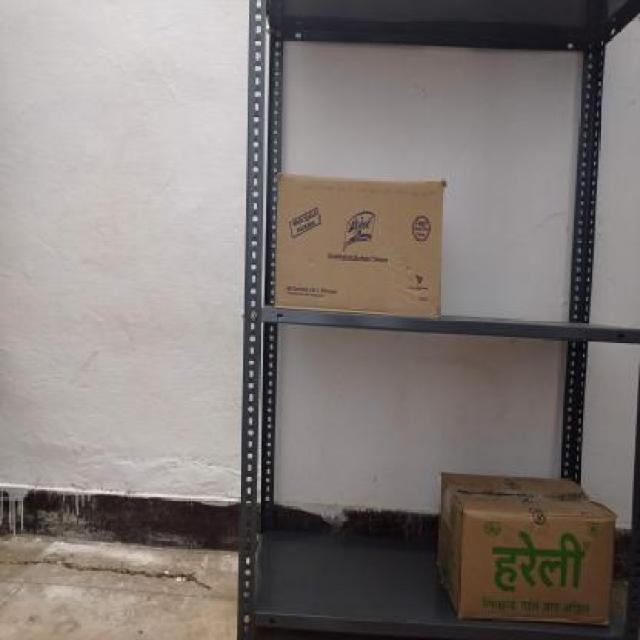box: (276, 172, 442, 322), (461, 508, 614, 626)
